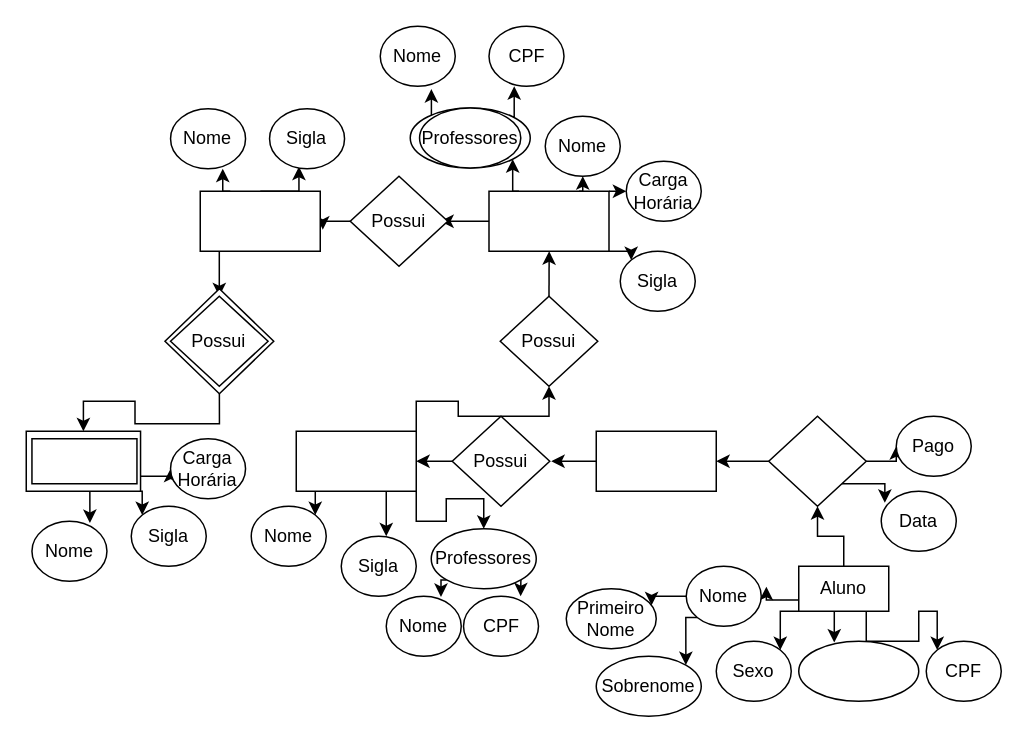
This 1028x743 diagram has some shape labels left out. Each missing label, with the box of its shape:
Cursos: (488, 190, 609, 251)
Data Nascimento: (797, 640, 919, 701)
Matrícula: (767, 415, 866, 506)
Módulos: (199, 190, 320, 251)
PUC Minas: (595, 430, 716, 491)
Tópico: (30, 437, 137, 484)
Área: (295, 430, 416, 491)
